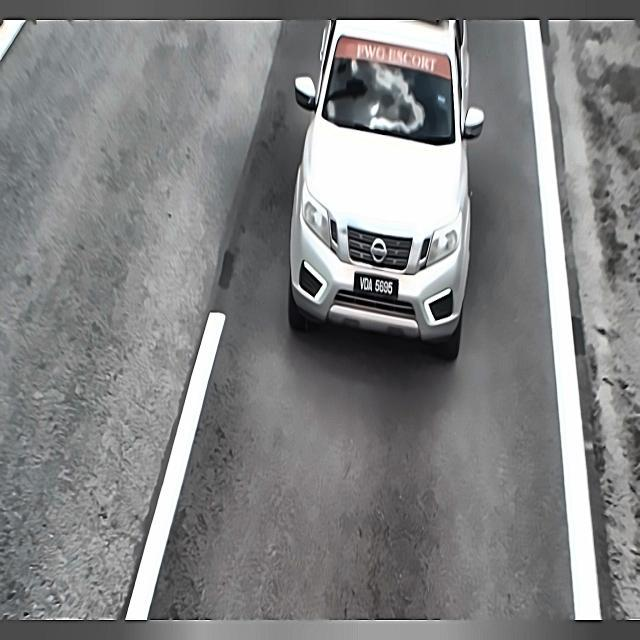car: (346, 265, 410, 306)
